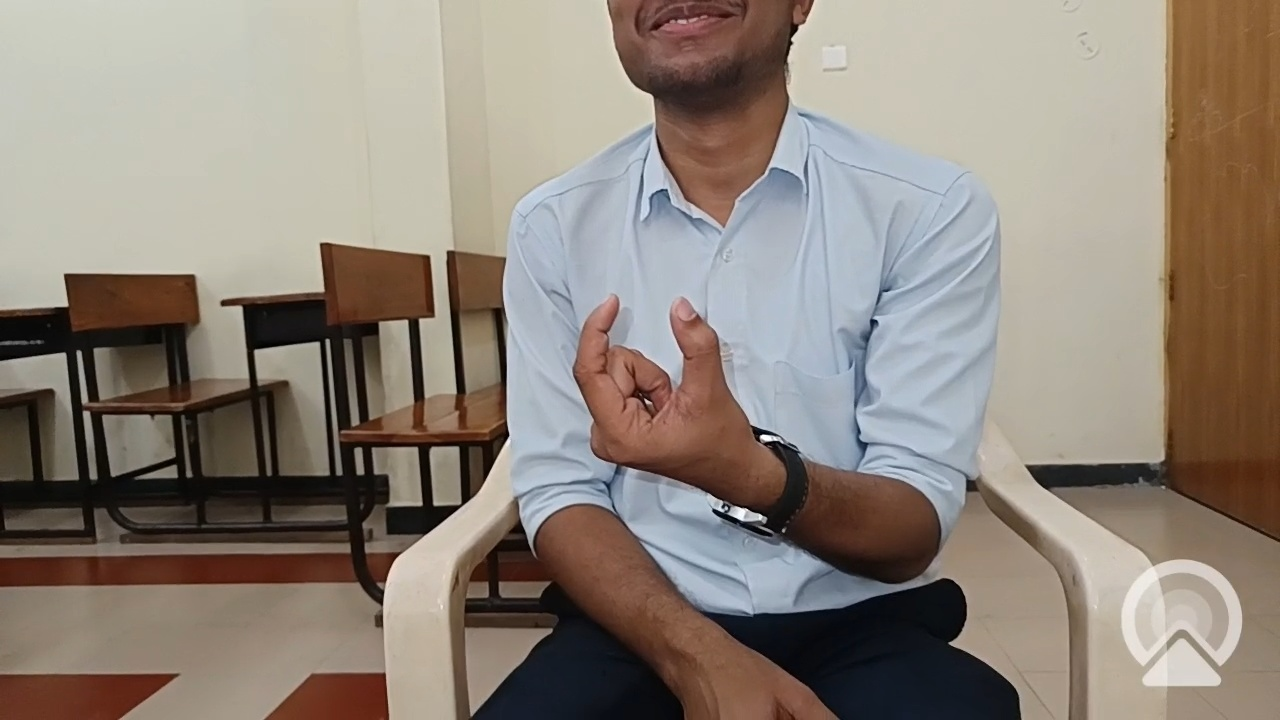U: (555, 275, 816, 558)
